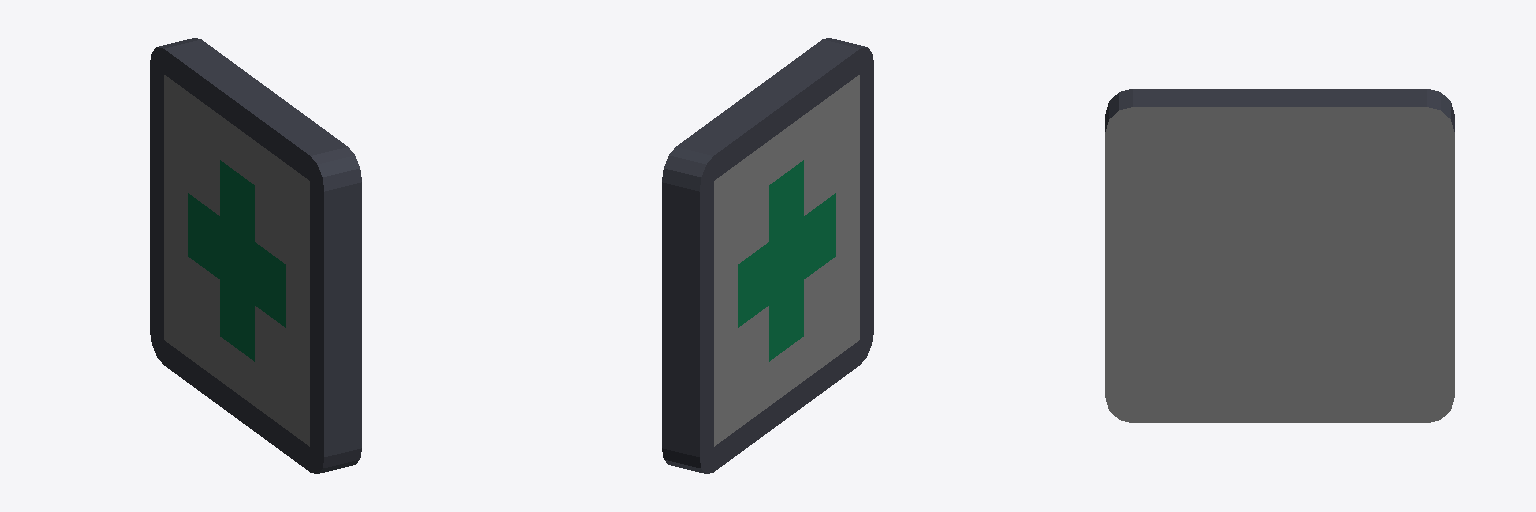
The model's file is sign_hospital.obj.
3 views of the same model, side by side, from view 1: azimuth 30°, elevation 25°; view 2: azimuth 150°, elevation 25°; view 3: azimuth 270°, elevation 25° (orthographic).
Parts seen in each view (by area): view 1: sign_hospital.001_sign_hospital; view 2: sign_hospital.001_sign_hospital; view 3: sign_hospital.001_sign_hospital.
Boxes of the visible parts, box(x1,y1,x2,y2) form: sign_hospital.001_sign_hospital: box(150, 38, 361, 473); sign_hospital.001_sign_hospital: box(662, 38, 873, 473); sign_hospital.001_sign_hospital: box(1105, 89, 1454, 422).
Bounding box in the file's own units: 6 × 48 × 48.